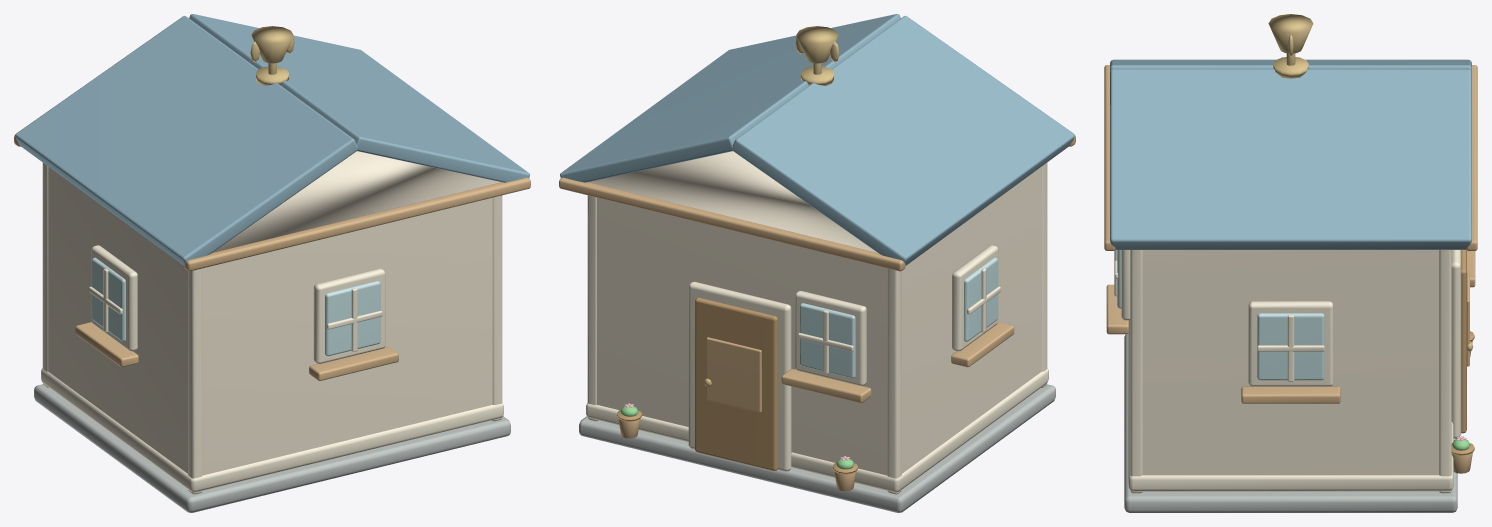
The model's file is records.glb.
3 views of the same model, side by side, from view 1: azimuth 30°, elevation 25°; view 2: azimuth 150°, elevation 25°; view 3: azimuth 270°, elevation 25° (orthographic). The views are drawn at different scales.
Size of the model in its own units: 3.62 by 3.81 by 3.16.
